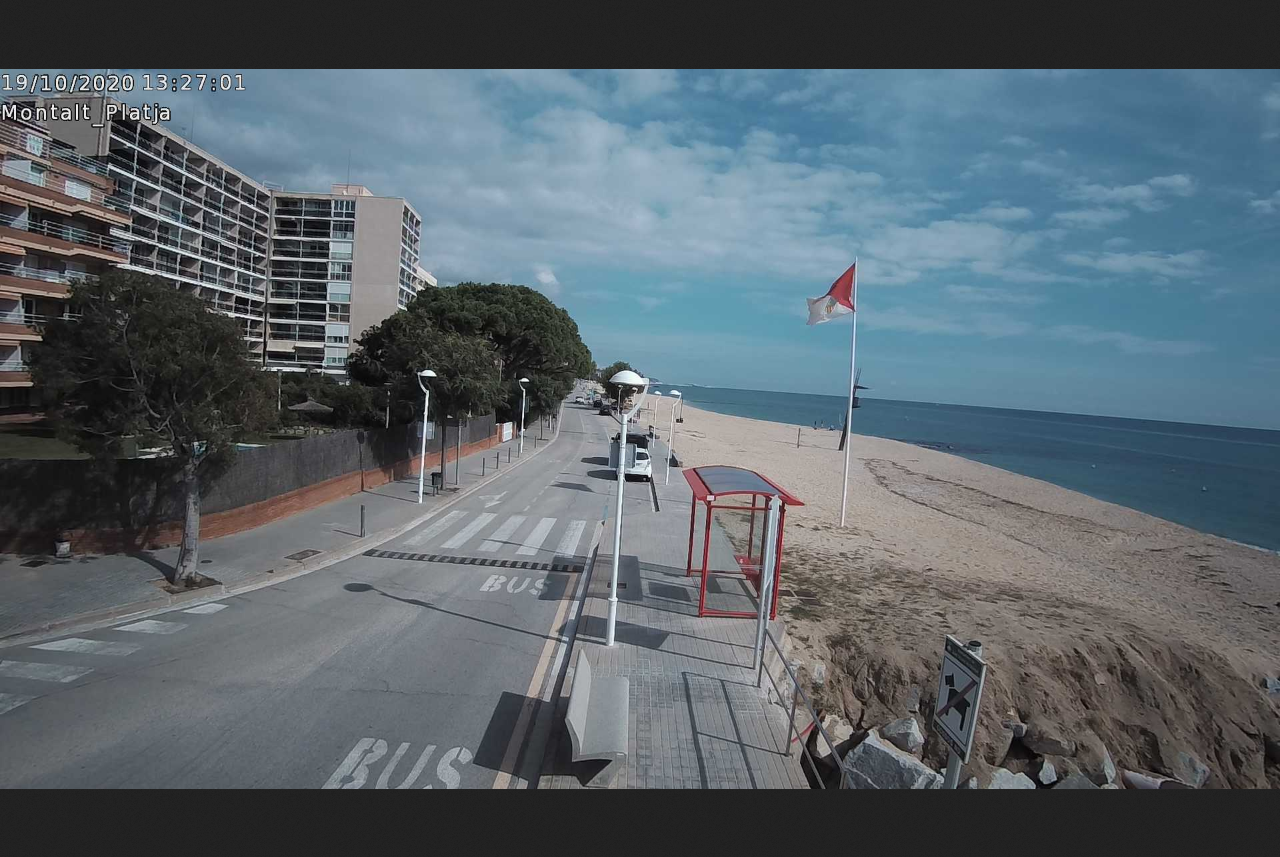maybe: (802, 259, 865, 330)
